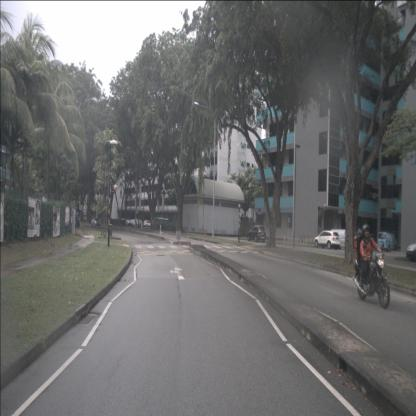cone: (282, 235, 286, 244)
